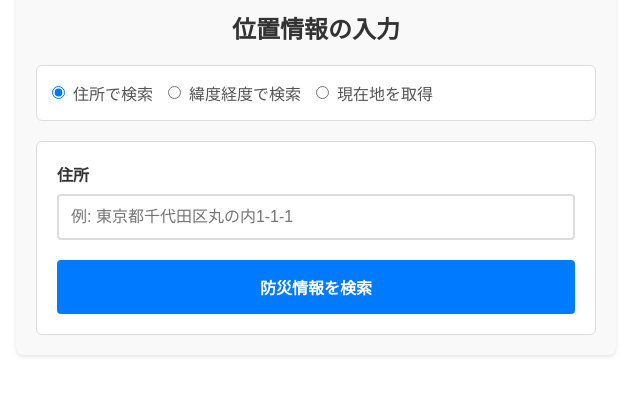
LocationInputComponent › 住所入力のバリデーション › 短すぎる住所でエラーメッセージが表示される
Type "ab" into the field labelled "住所".
click(316, 217); type("ab")  # box [57,194,575,240]
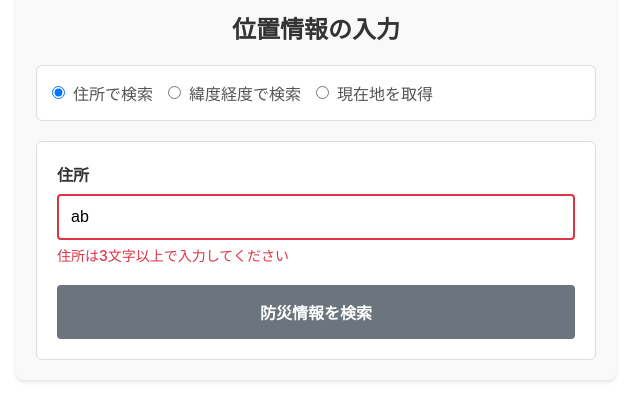
Now the text "住所は3文字以上で入力してください" is shown, box [57,247,289,264]
